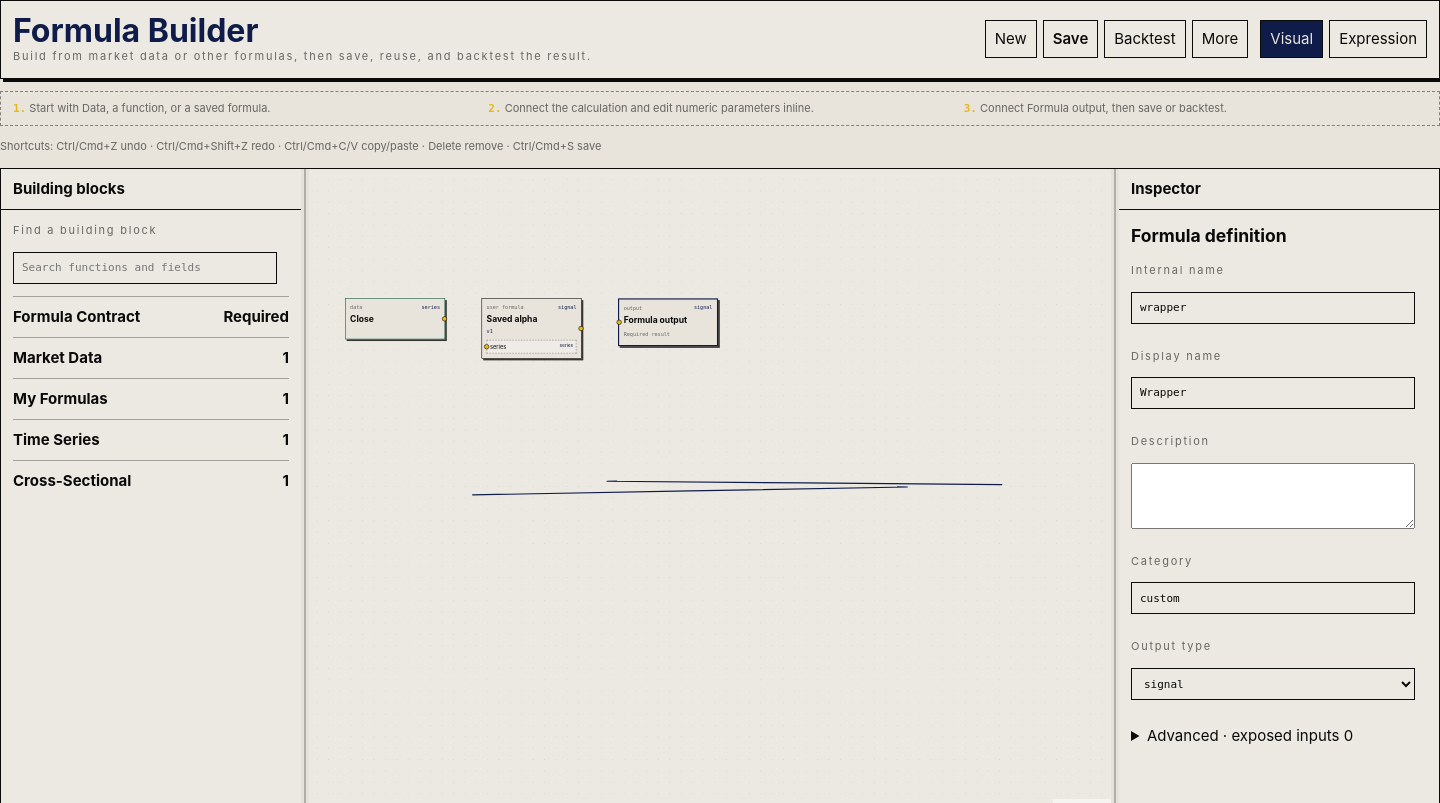
Test: FormulaEditorPage › updates a pinned nested formula node to the latest revision
Check: the element with test id "formula-library" is shown, box [1,169,301,493]
Check: the text with class "formula-block__revision" reads "v1", box [487,329,493,334]
Click the element showing "user formula Saved alpha v1 series series signal". click: (532, 328)
box: [482,298,582,358]
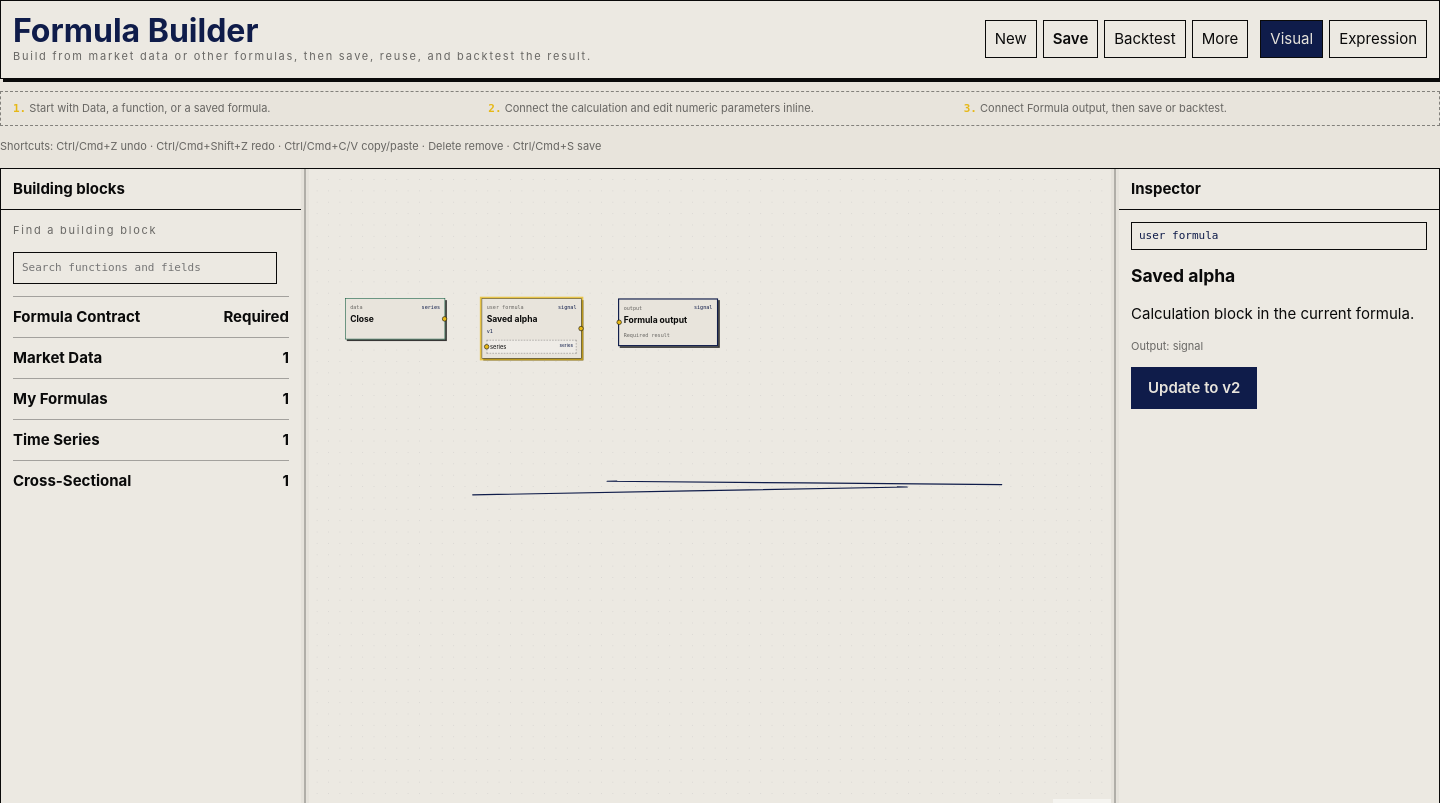
Click the button "Update to v2". click: (1194, 388)
box: [1131,367,1257,409]
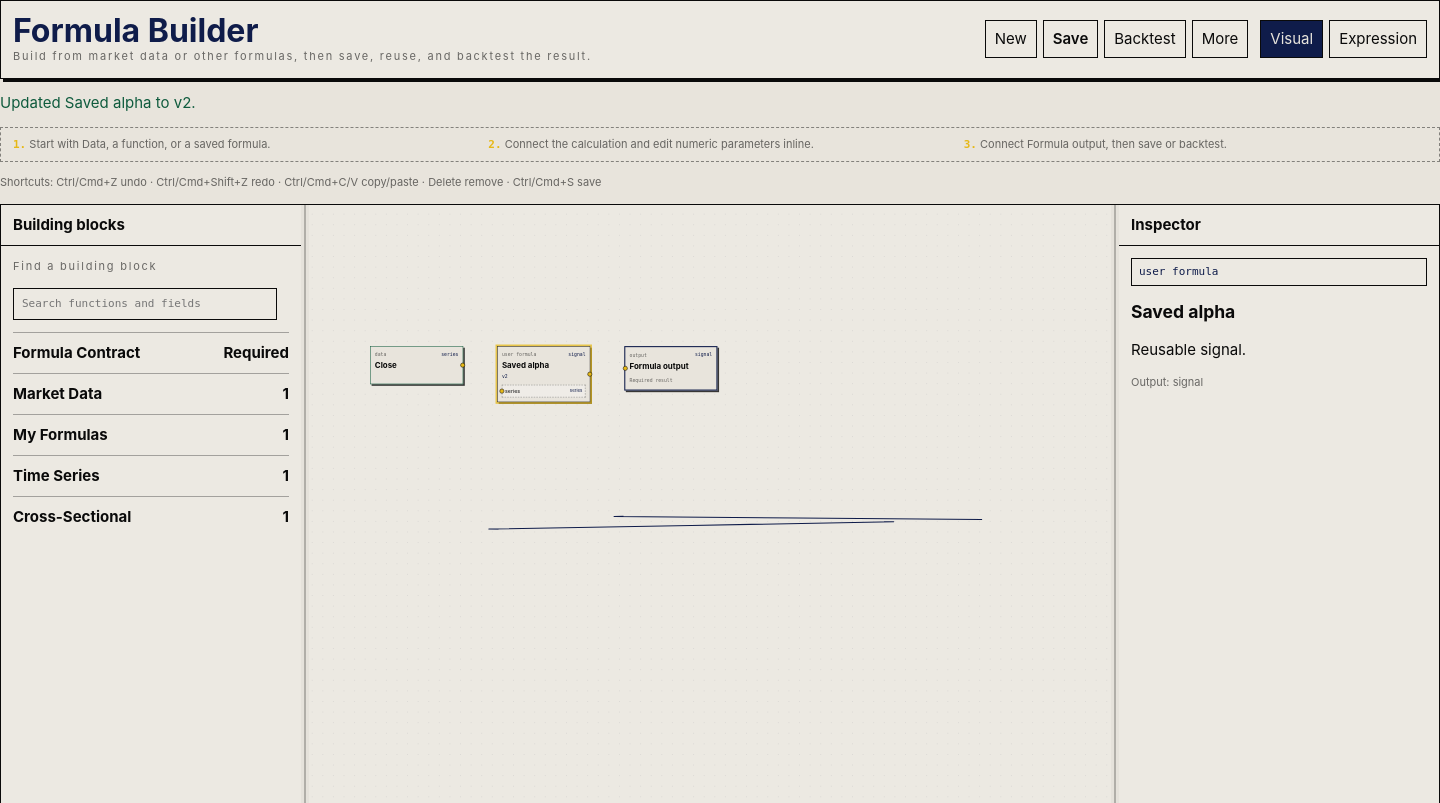
Check: the text with class "formula-block__revision" reads "v2", box [502,374,508,380]
